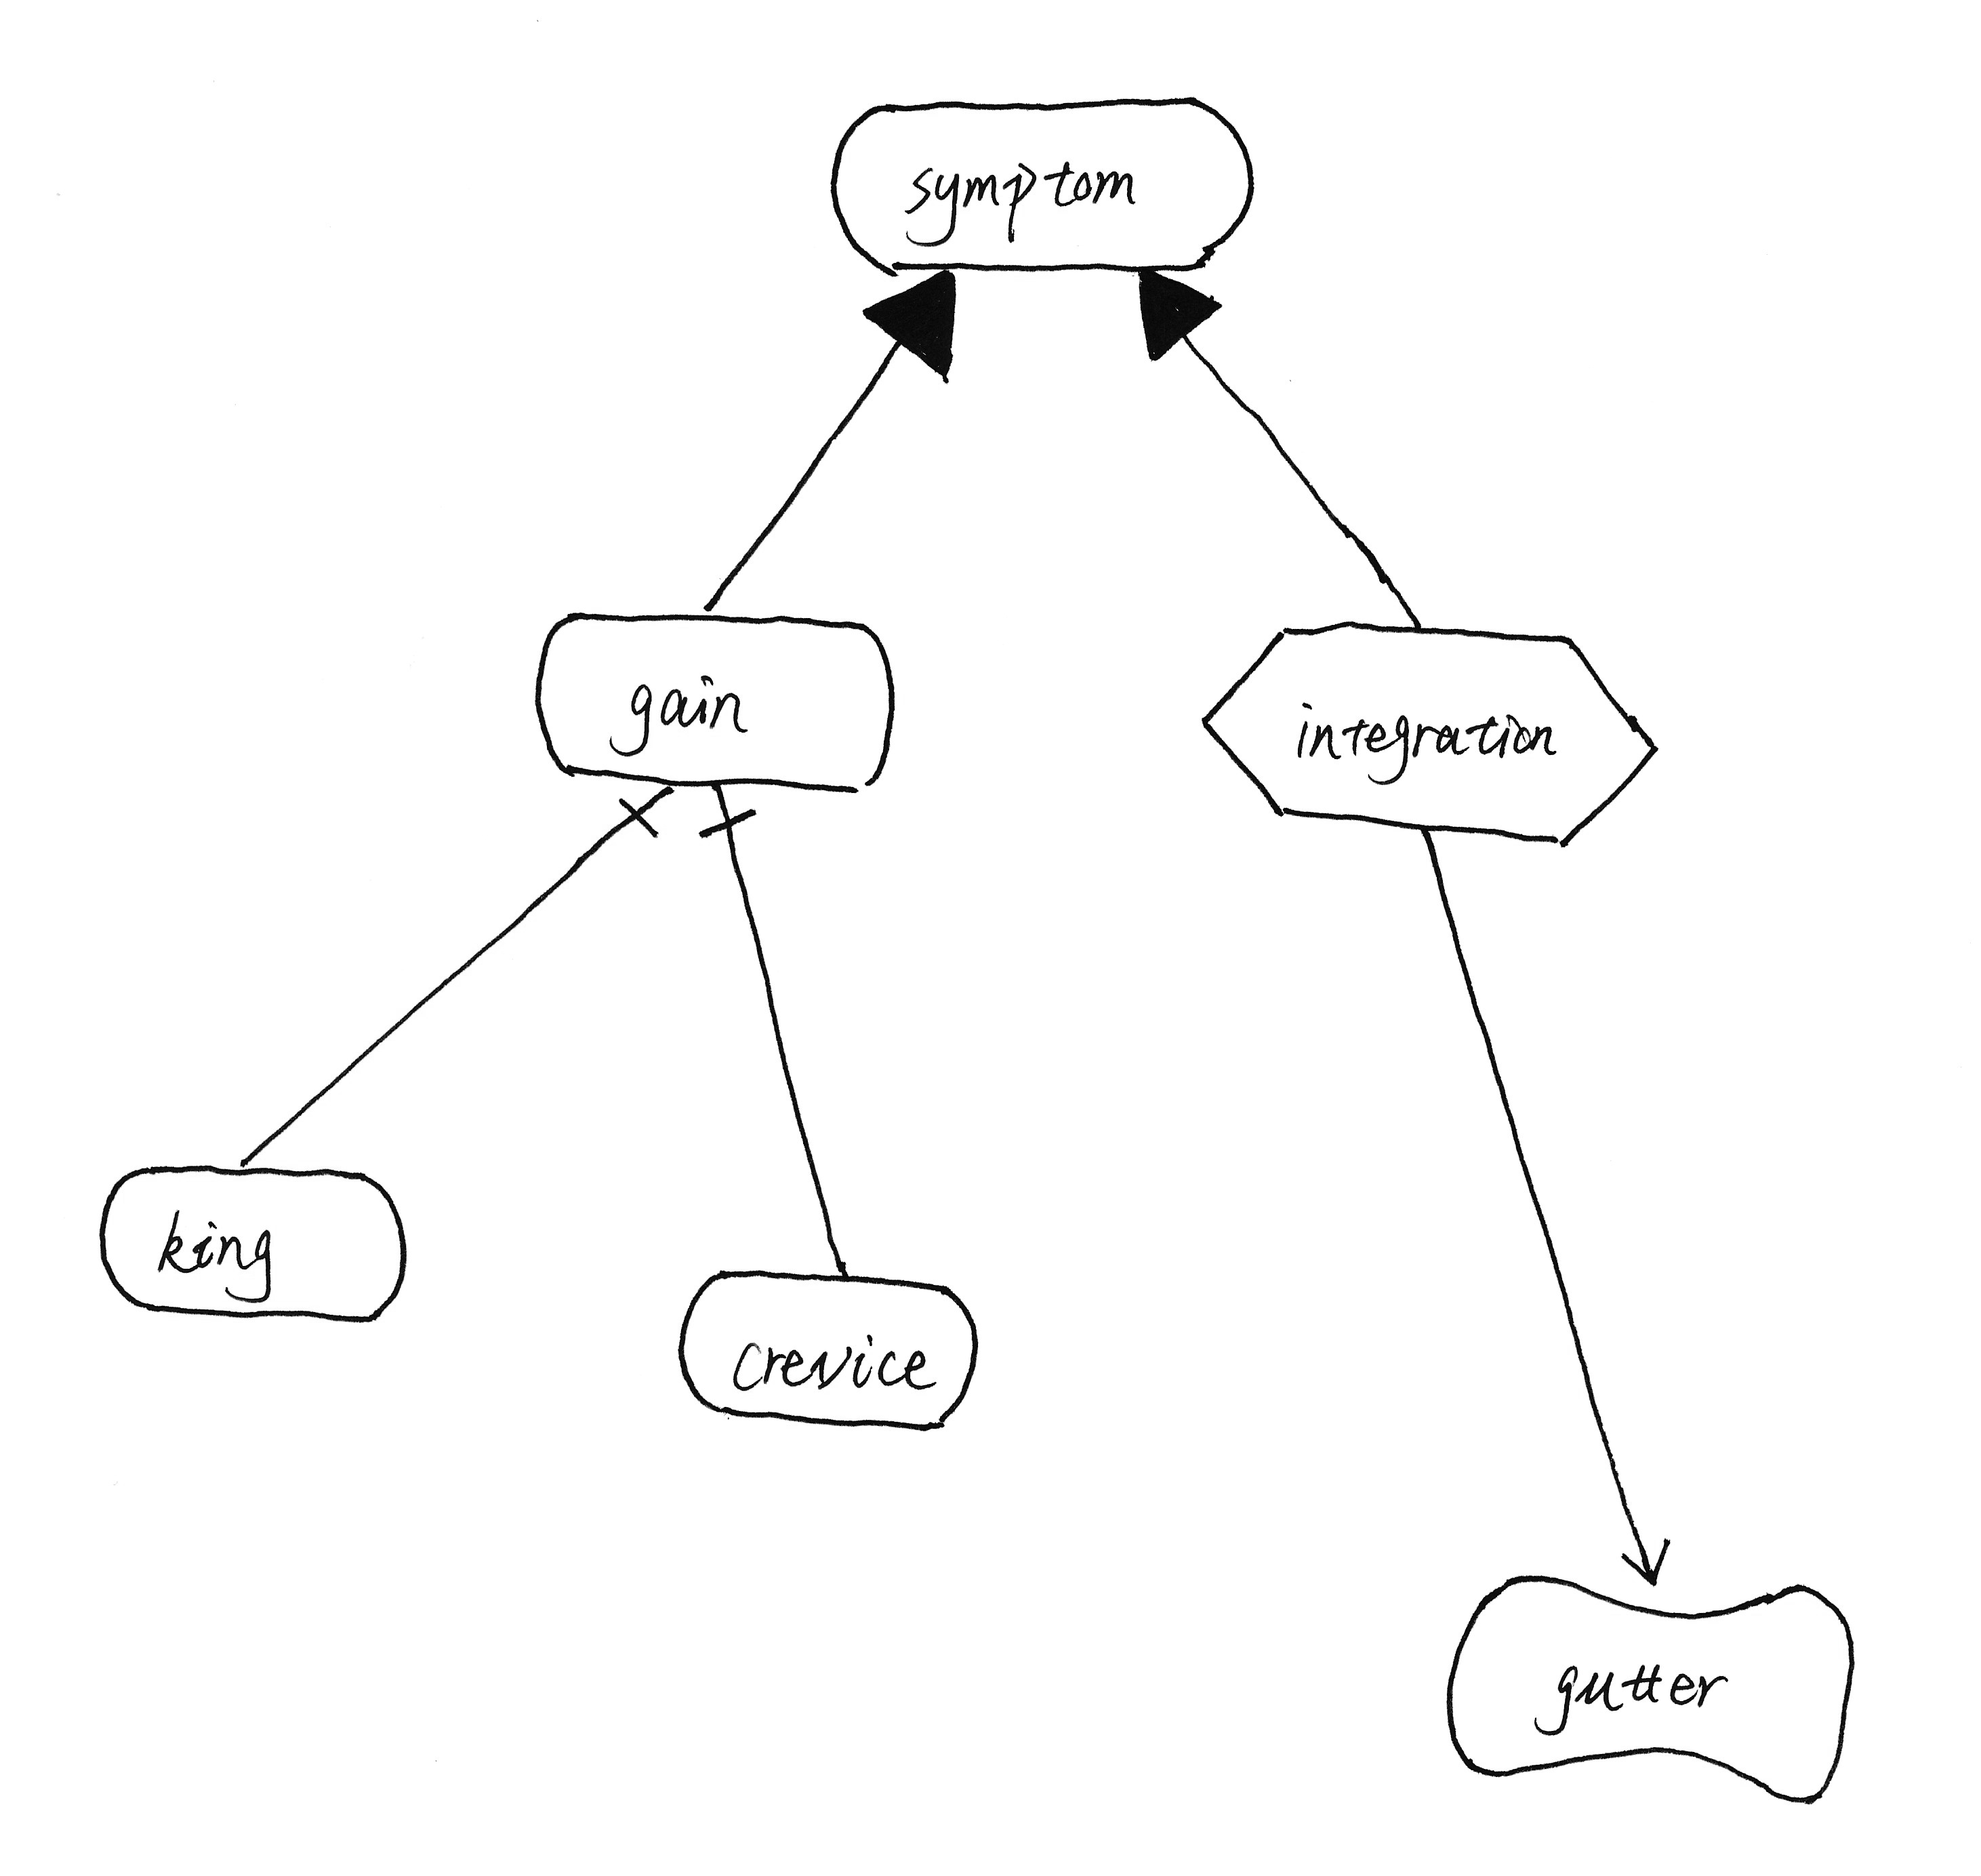and: (597, 776, 679, 852), (694, 790, 763, 857)
arrow: (1609, 1529, 1685, 1597)
goal: (816, 79, 1269, 289), (515, 592, 913, 808), (654, 1254, 996, 1449), (88, 1144, 427, 1340)
or: (850, 266, 999, 404), (1119, 264, 1232, 376)
quality: (1435, 1564, 1872, 1823)
task: (1186, 610, 1676, 869)
